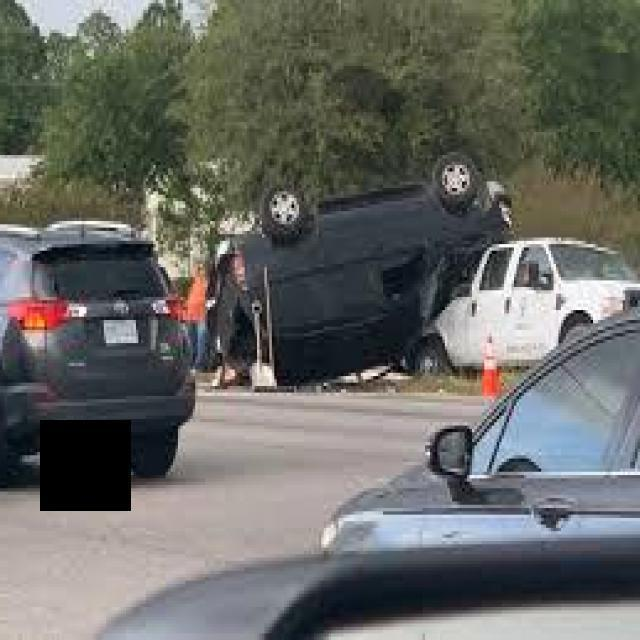accident: (203, 150, 640, 377)
